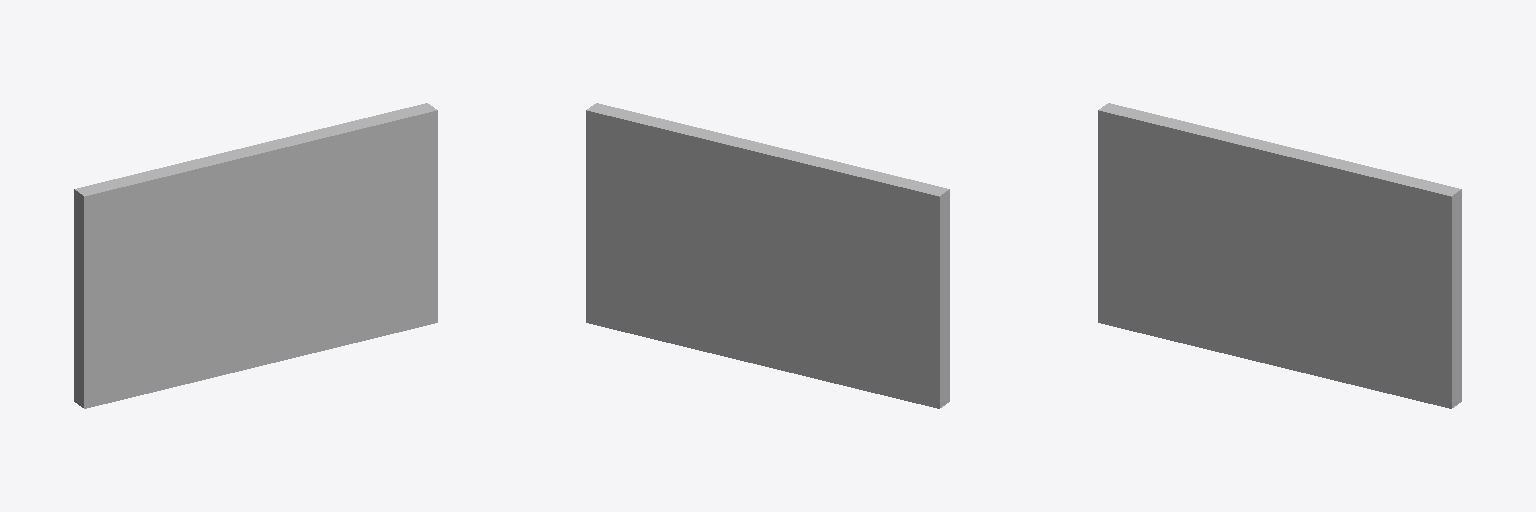
File: Wall brickOther.obj
The picture shows the model from 3 angles: view 1: azimuth 30°, elevation 25°; view 2: azimuth 150°, elevation 25°; view 3: azimuth 330°, elevation 25°; orthographic projection.
Visible parts, largest first — view 1: object 1; view 2: object 1; view 3: object 1.
Boxes of the visible parts, x1,y1,x2,y2 form: object 1: [74, 103, 437, 408]; object 1: [586, 103, 949, 408]; object 1: [1098, 103, 1461, 408].
Size of the model in its own units: 4 by 2.3 by 0.2.